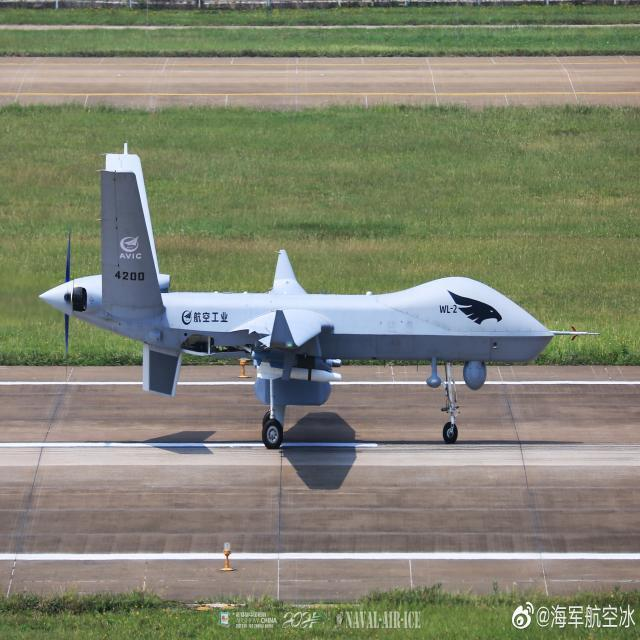iha: (29, 150, 598, 464)
